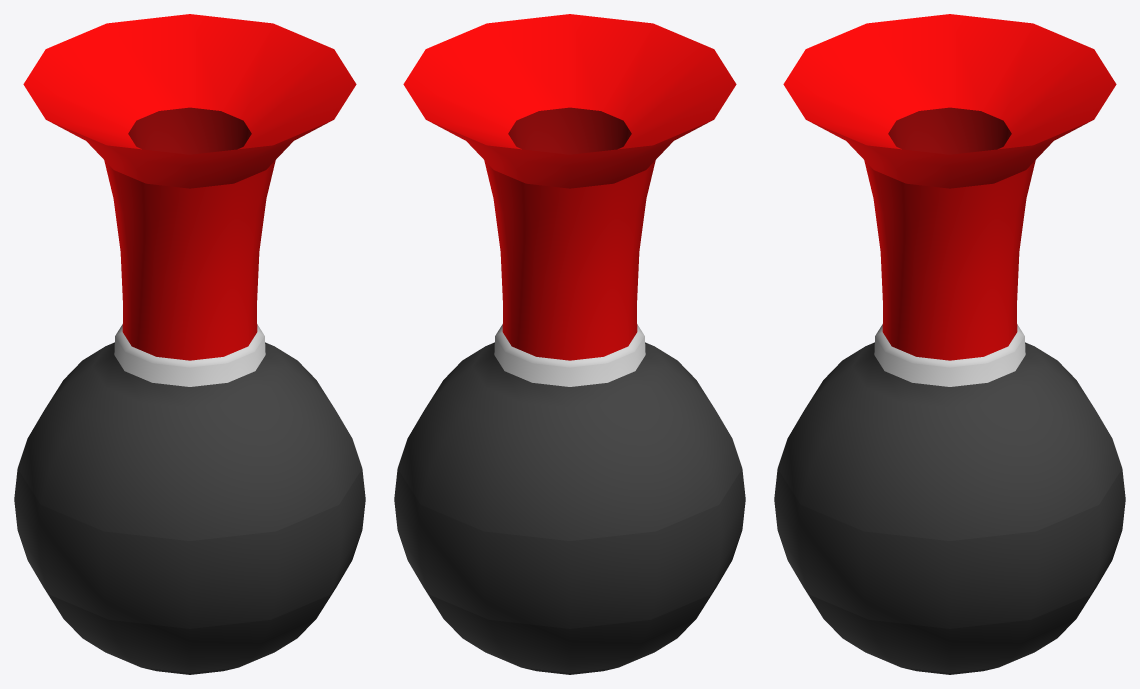
The model's file is D_FBX_06_Cannon_00_C.fbx.
The picture shows the model from 3 angles, left to right: view 1: azimuth 30°, elevation 25°; view 2: azimuth 150°, elevation 25°; view 3: azimuth 270°, elevation 25°; orthographic projection.
Visible parts, largest first — view 1: D_FBX_06_Cannon_00_C; view 2: D_FBX_06_Cannon_00_C; view 3: D_FBX_06_Cannon_00_C.
Boxes of the visible parts, <box> form: D_FBX_06_Cannon_00_C: <box>14,14,365,674</box>; D_FBX_06_Cannon_00_C: <box>394,14,745,674</box>; D_FBX_06_Cannon_00_C: <box>774,14,1125,674</box>.
Bounding box in the file's own units: 1.63 × 2.94 × 1.63.
